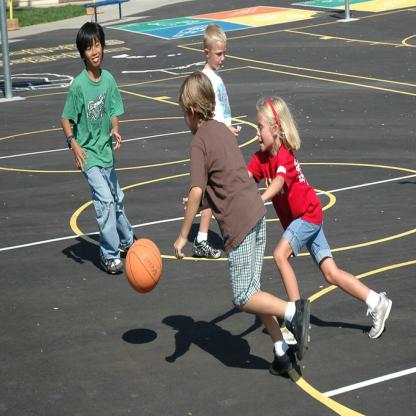Ball: (126, 238, 162, 293)
